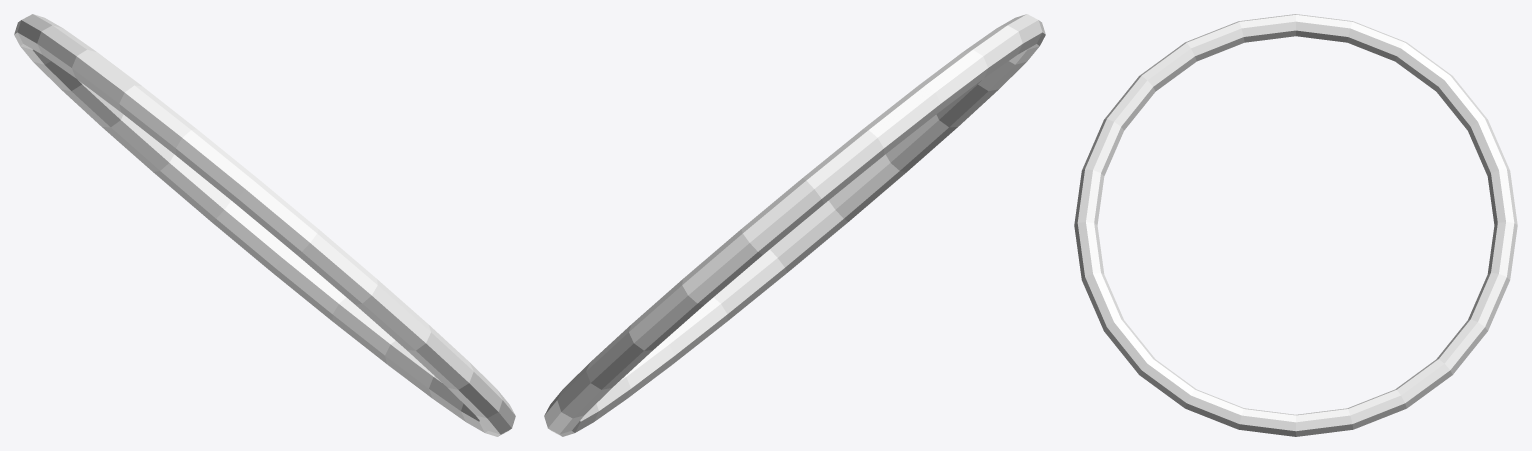
File: pylon_core_3.obj
The picture shows the model from 3 angles, left to right: view 1: azimuth 30°, elevation 25°; view 2: azimuth 150°, elevation 25°; view 3: azimuth 270°, elevation 25°; orthographic projection. The views are drawn at different scales.
Parts seen in each view (by area): view 1: torus; view 2: torus; view 3: torus.
Boxes of the visible parts, bbox=[...] form: torus: bbox=[14, 14, 515, 436]; torus: bbox=[544, 14, 1045, 436]; torus: bbox=[1074, 14, 1517, 436].
Size of the model in its own units: 0.4112 by 0.4459 by 0.5938.
1 material, 1 textured.
